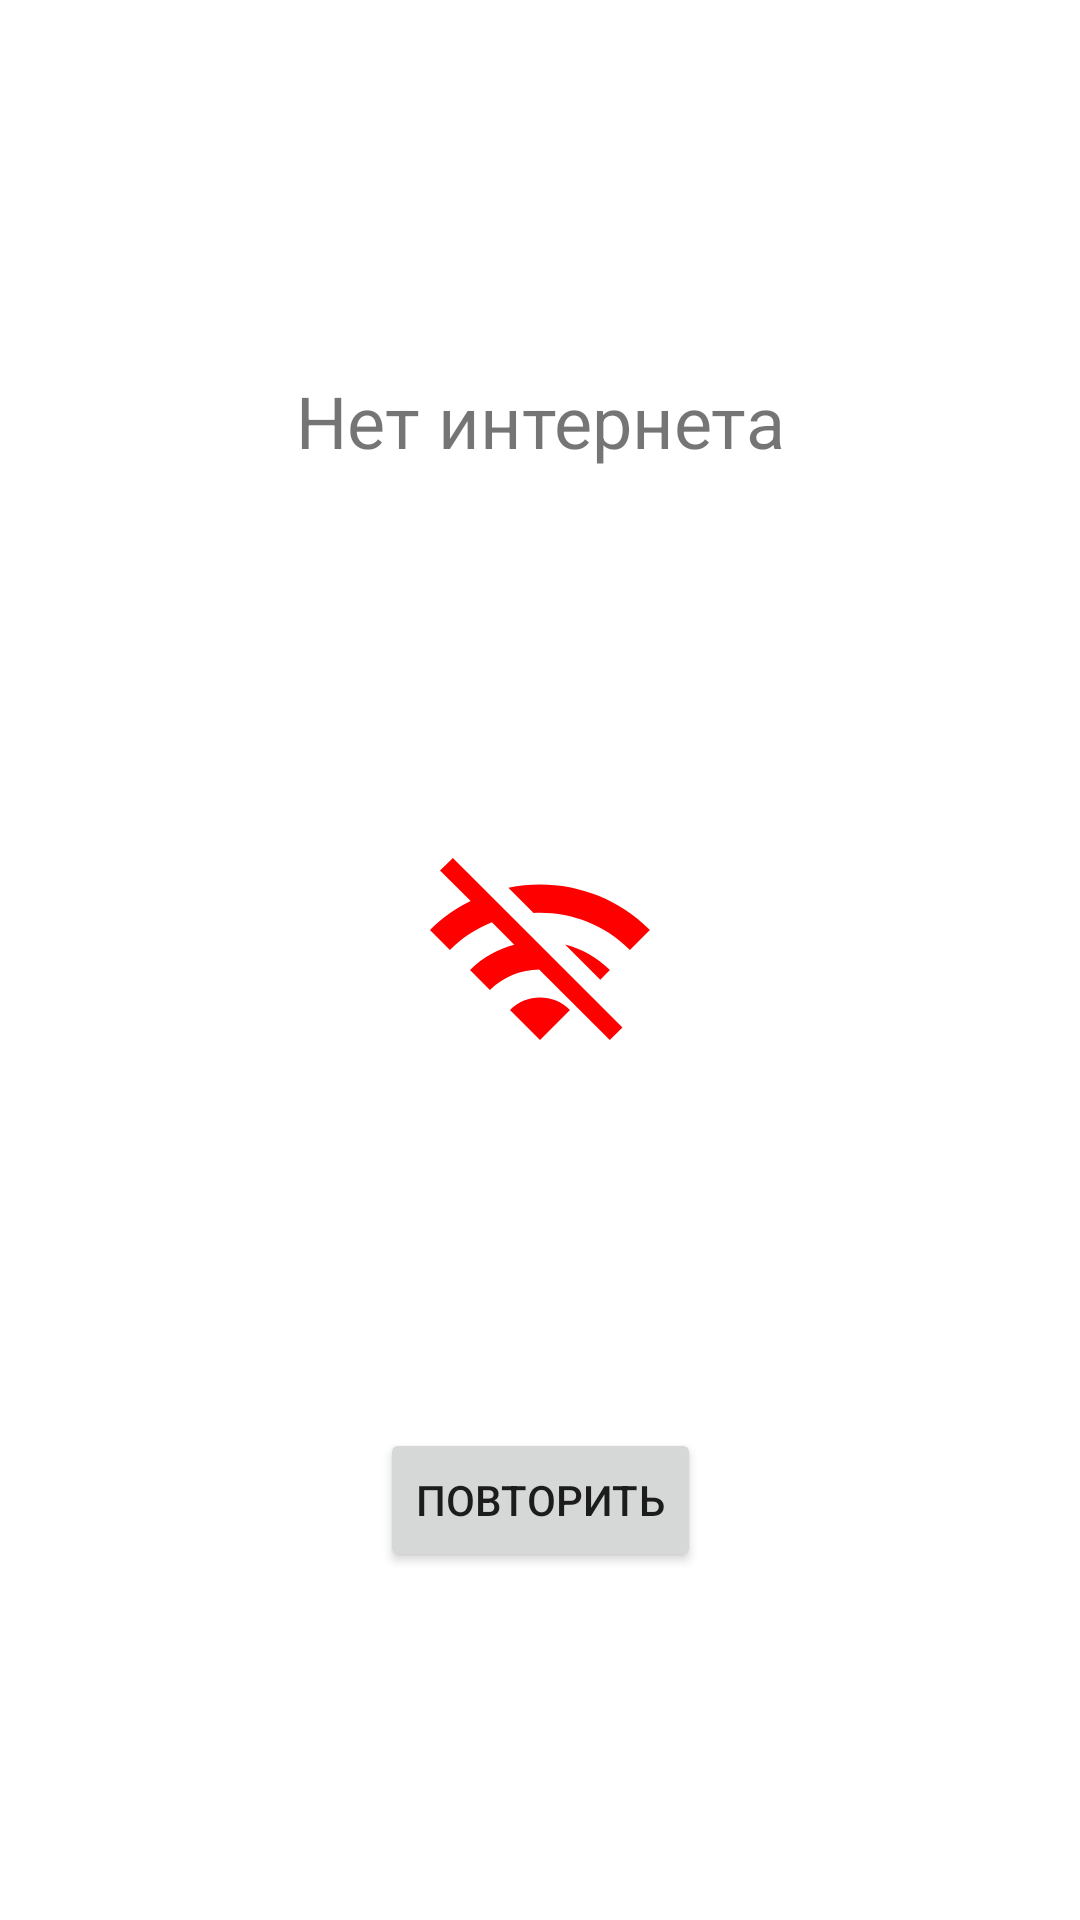

Screen size 1080w x 1920h. Icon name, then its center in pixels as [x,y]:
wifi: [540,949]
